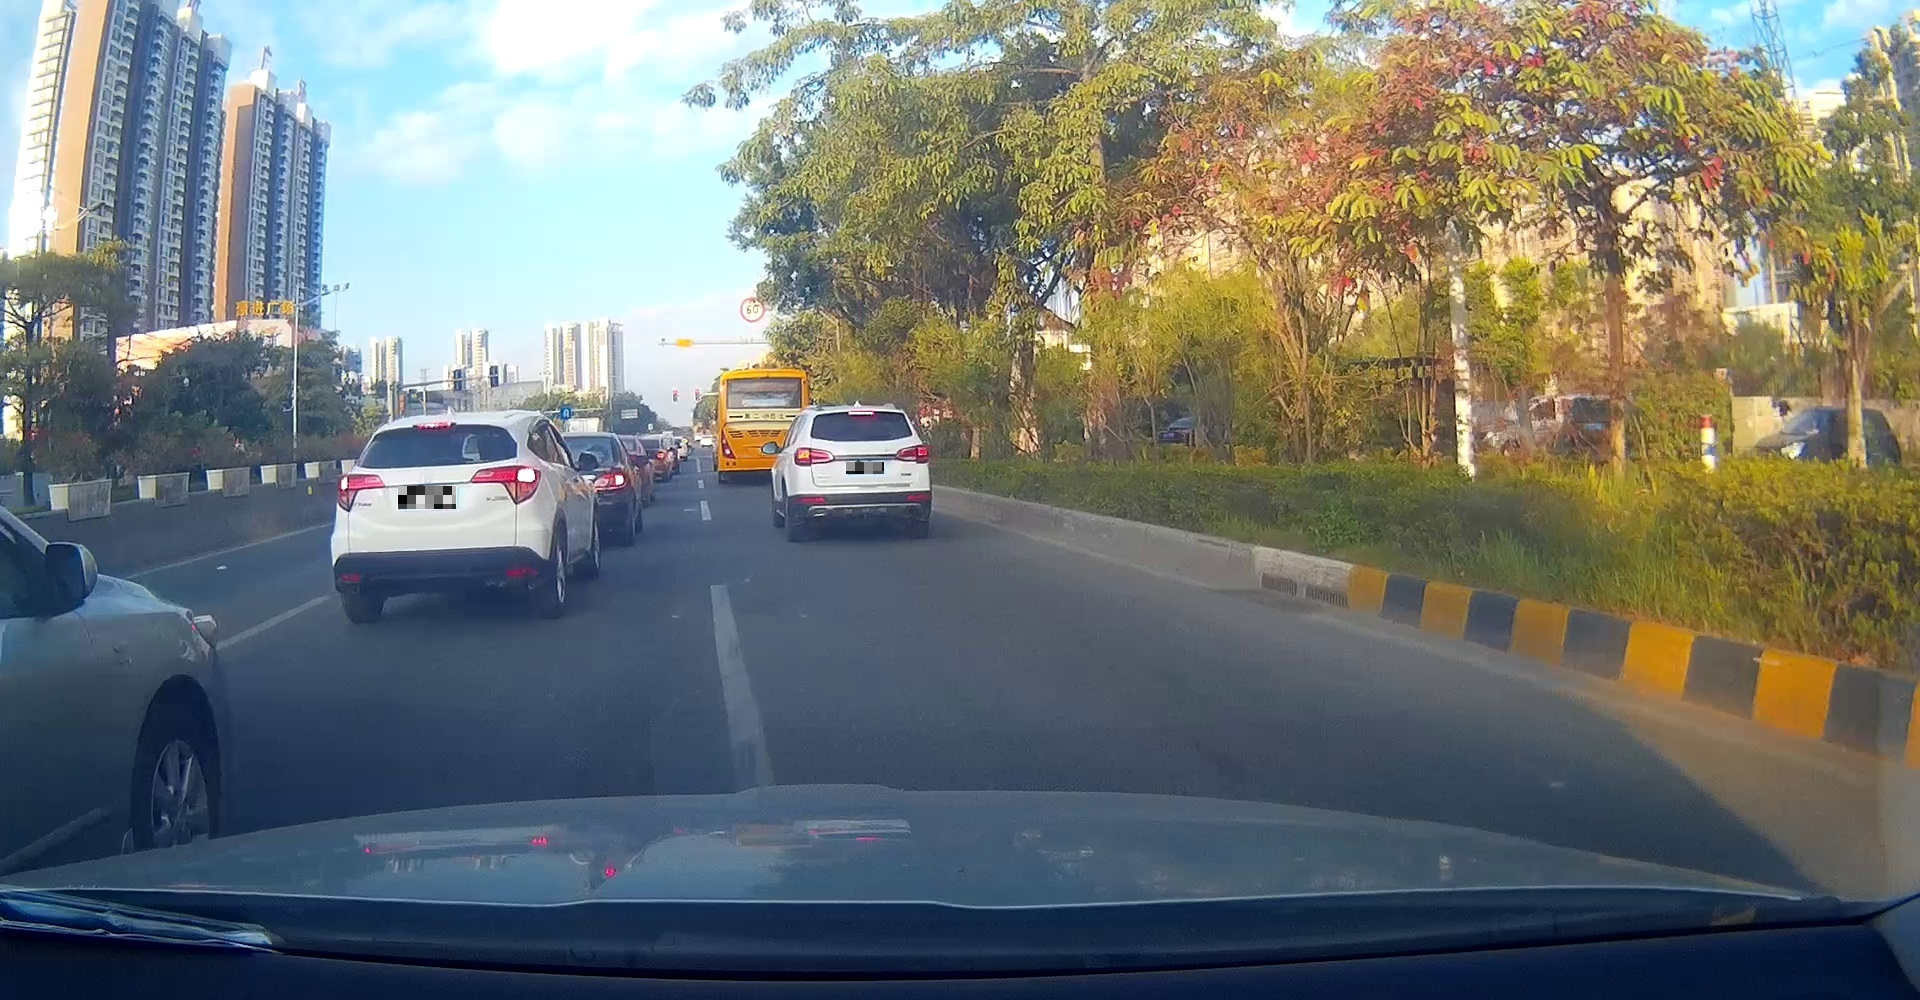L_light: (335, 475, 386, 511), (792, 447, 836, 466)
R_light: (469, 464, 542, 505), (895, 444, 930, 464)
T_light: (415, 423, 451, 430), (850, 411, 872, 415)
day-brake: (330, 411, 543, 621), (792, 405, 931, 542)
plate_1: (397, 486, 456, 509)
plate_2: (846, 462, 884, 475)
